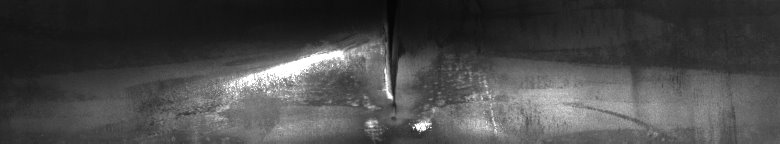ke: (179, 26, 497, 136)
